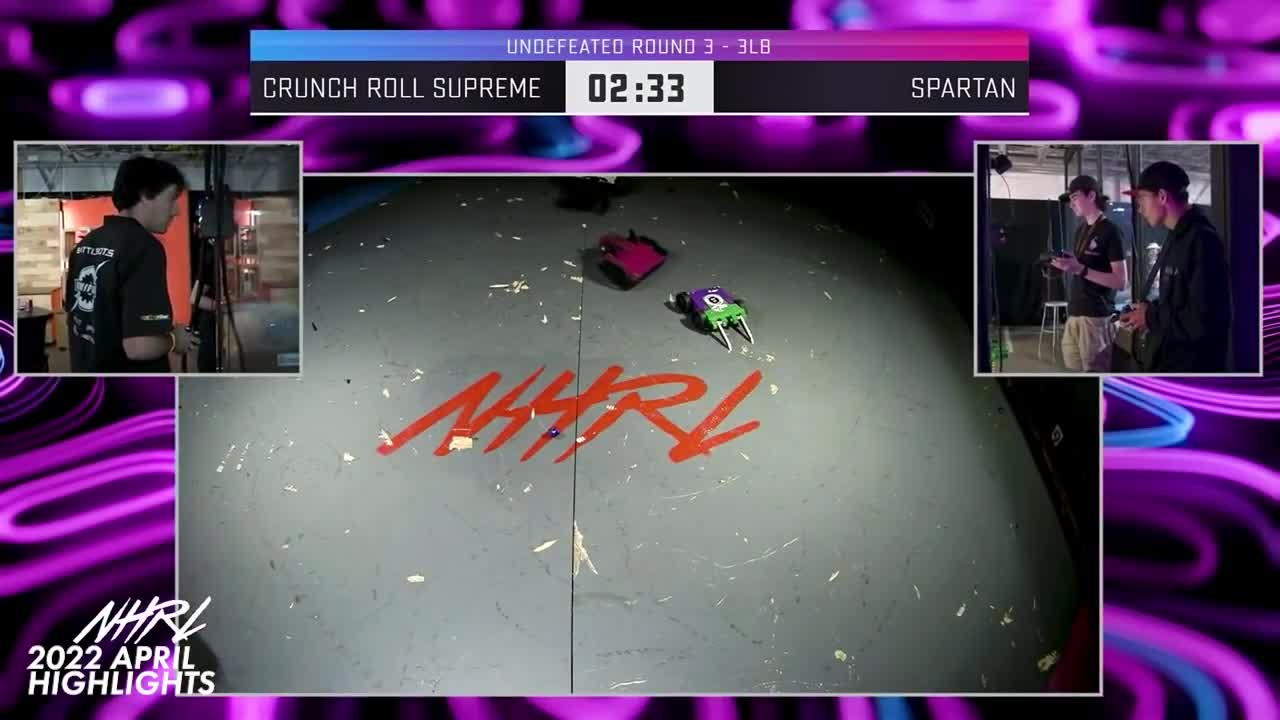combatbot: (595, 228, 672, 290), (685, 286, 745, 332)
debris: (548, 429, 561, 439)
